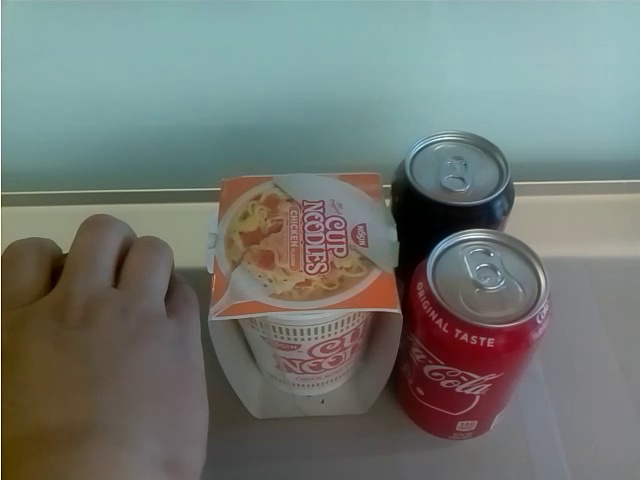cocacola: (402, 226, 555, 443), (389, 131, 516, 250)
hand: (1, 213, 211, 480)
noodles: (206, 174, 401, 422)
